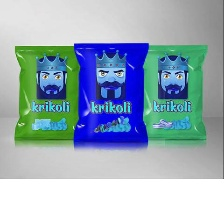snack: (68, 37, 154, 148), (8, 38, 88, 145), (133, 39, 212, 145)
